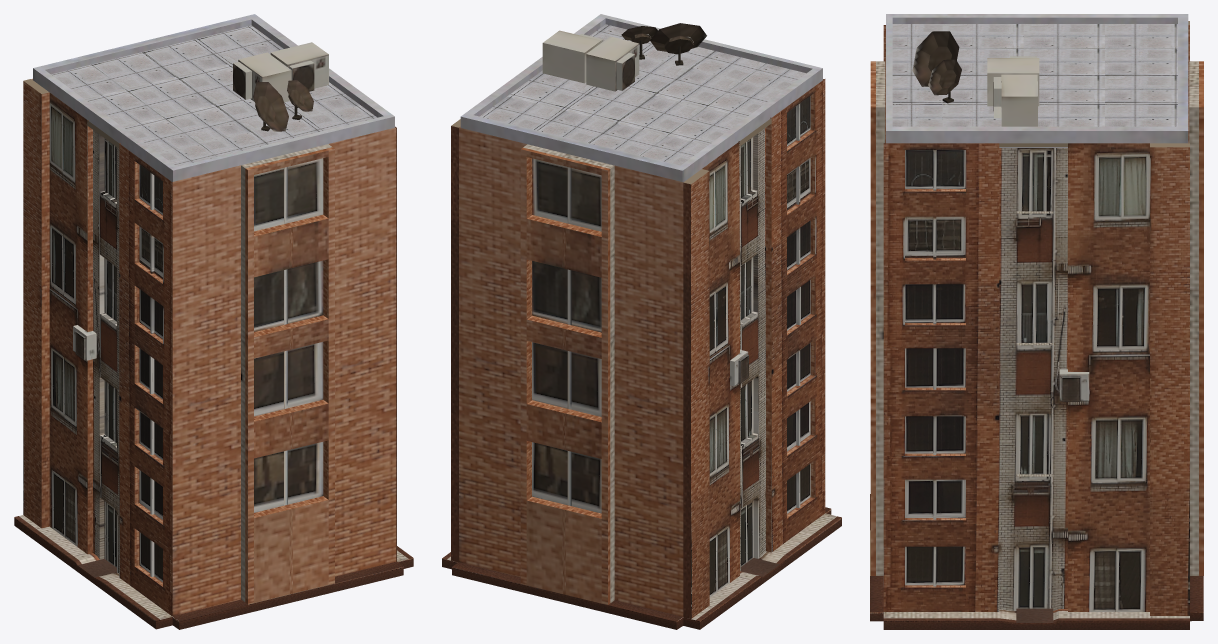
File: building_2.fbx
3 renders of one model, left to right at view 1: azimuth 30°, elevation 25°; view 2: azimuth 150°, elevation 25°; view 3: azimuth 270°, elevation 25°, orthographic. The views are drawn at different scales.
Parts seen in each view (by area): view 1: brick_building_medium; view 2: brick_building_medium; view 3: brick_building_medium.
Part boxes in pixels (box(x1,y1,x2,y2)): brick_building_medium: box(14, 14, 413, 629); brick_building_medium: box(442, 14, 841, 629); brick_building_medium: box(870, 14, 1203, 629).
Size of the model in its own units: 1.58 by 2.88 by 1.64.
